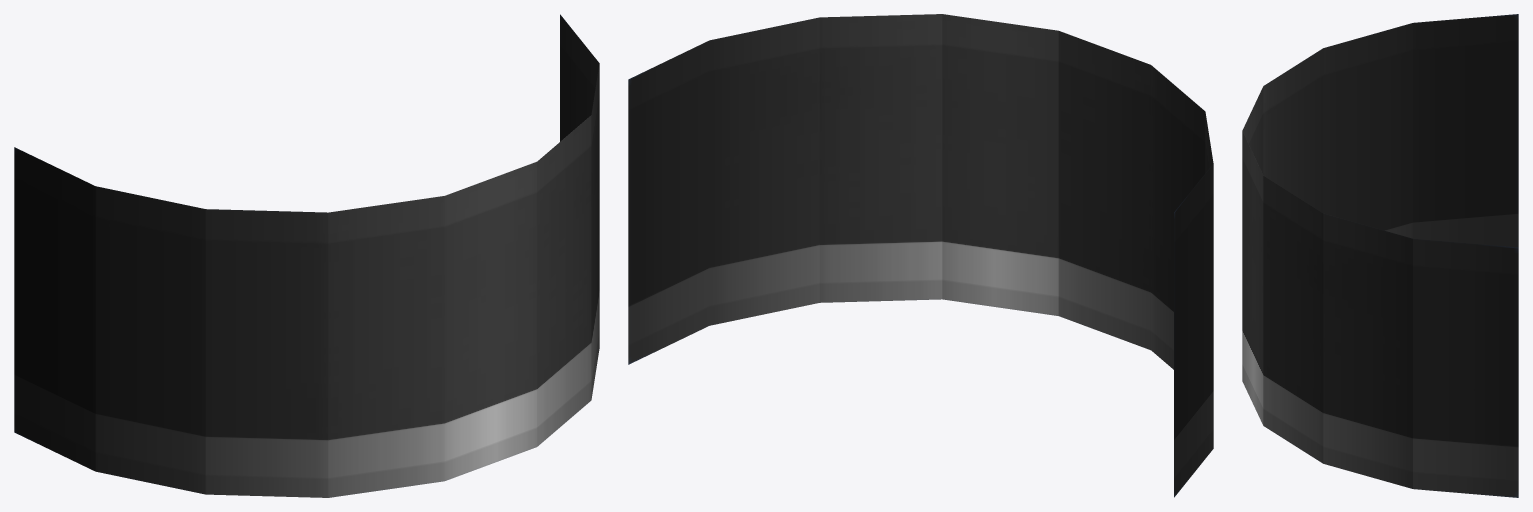
The picture shows the model from 3 angles, left to right: view 1: azimuth 30°, elevation 25°; view 2: azimuth 150°, elevation 25°; view 3: azimuth 270°, elevation 25°; orthographic projection. The views are drawn at different scales.
Visible parts, largest first — view 1: Cylinder; view 2: Cylinder; view 3: Cylinder.
Part boxes in pixels (x1,y1,x2,y2): Cylinder: (14,14,599,497); Cylinder: (628,14,1213,497); Cylinder: (1242,14,1518,497).
Bounding box in the file's own units: 1 × 0.5 × 0.5.
1 material, 1 textured.
